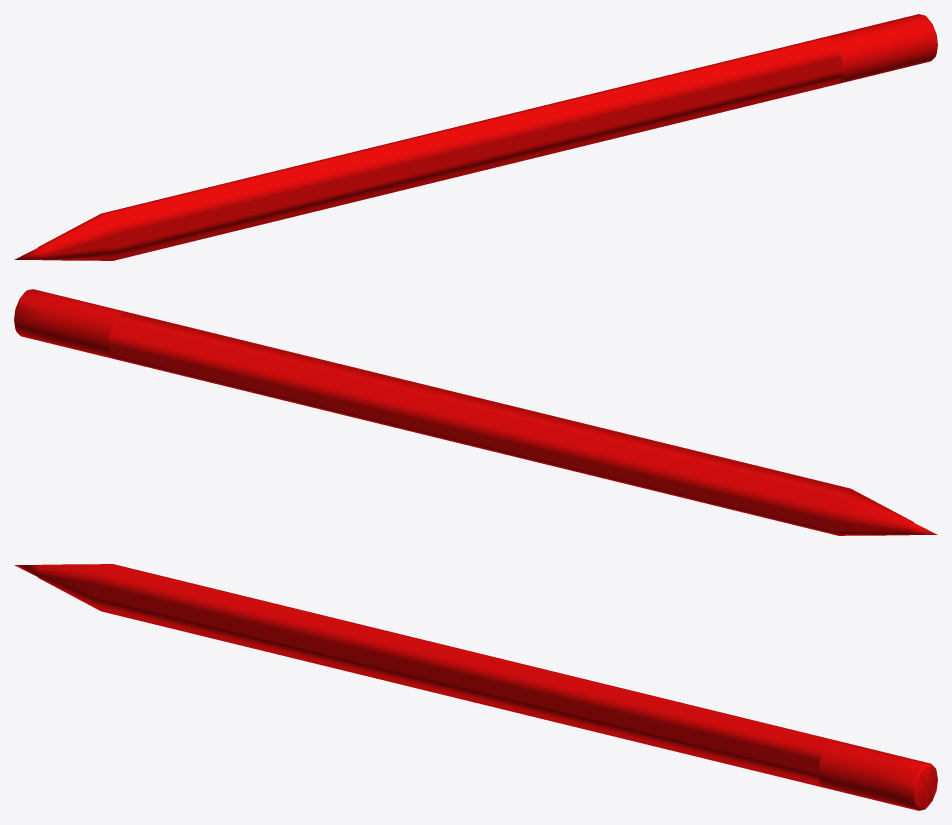
Rendered from thorkea_pencils_grp.fbx.
3 renders of one model, top to bottom at view 1: azimuth 30°, elevation 25°; view 2: azimuth 150°, elevation 25°; view 3: azimuth 330°, elevation 25°, orthographic.
Parts seen in each view (by area): view 1: thorkea_pencil_amazon_basics; view 2: thorkea_pencil_amazon_basics; view 3: thorkea_pencil_amazon_basics.
Part boxes in pixels (x1,y1,x2,y2): thorkea_pencil_amazon_basics: (14,14,937,260); thorkea_pencil_amazon_basics: (14,289,937,535); thorkea_pencil_amazon_basics: (14,564,937,810).
Bounding box in the file's own units: 18.83 × 0.883 × 0.8725.
